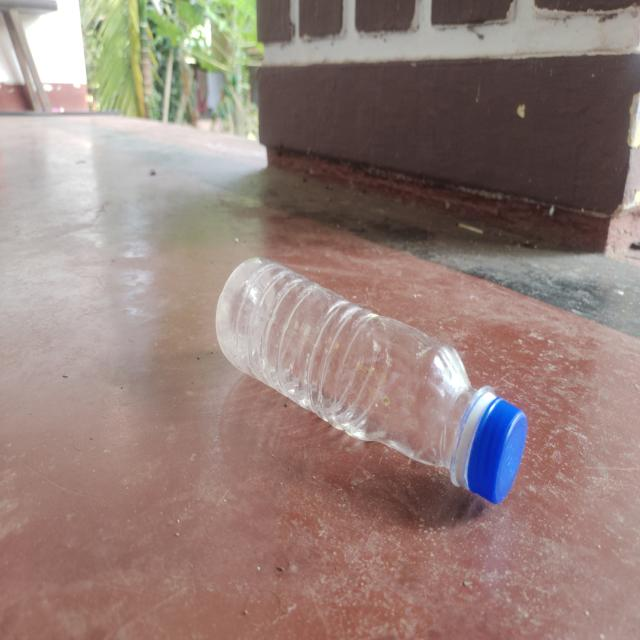plastic: (216, 255, 530, 506)
